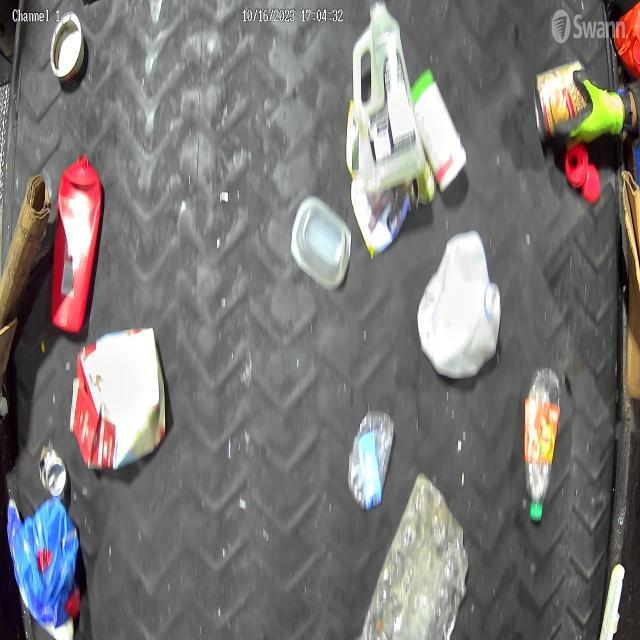can: (38, 436, 68, 499)
milk_jug: (418, 226, 504, 376), (354, 0, 417, 193)
non_white_jug: (69, 328, 167, 468), (5, 495, 86, 627), (54, 151, 100, 327)
plastic_bottle: (529, 354, 563, 524)
